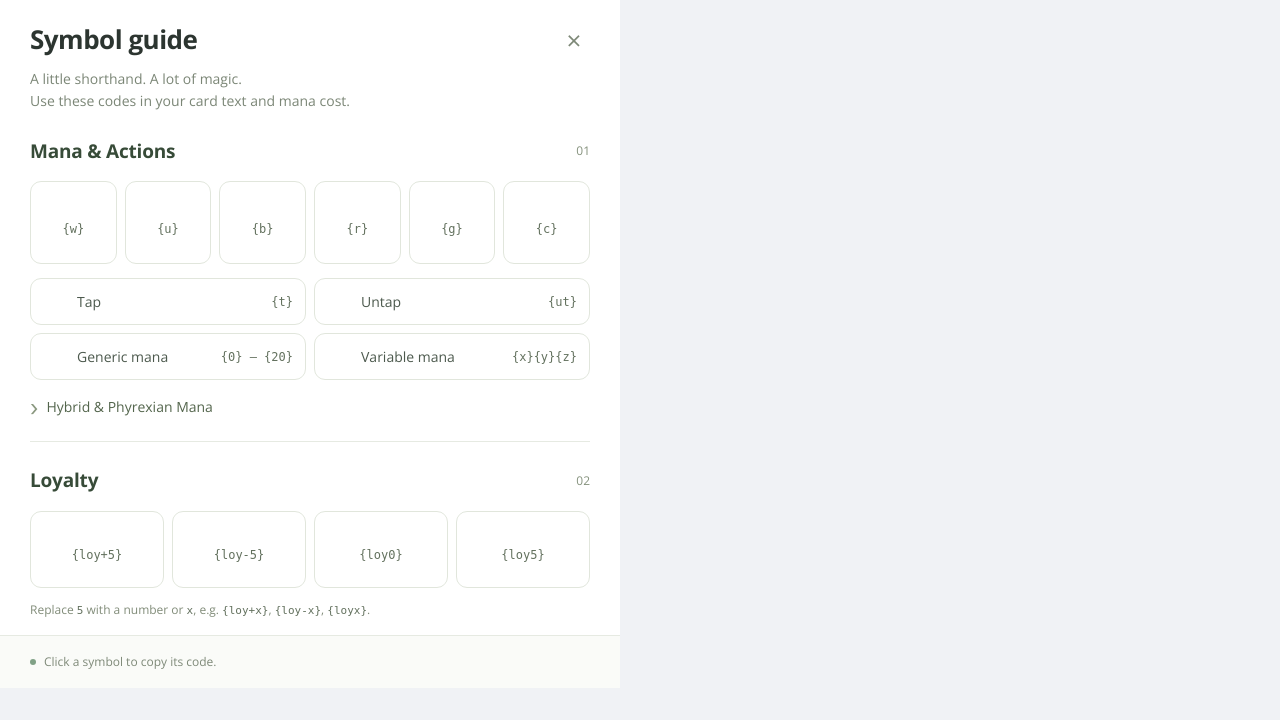
SymbolGuide › offers selectable code when the clipboard is missing
Step 1. Click the button with aria-label "Copy Tap: {t}" → (89, 302), box x1=30 y1=278 x2=306 y2=325
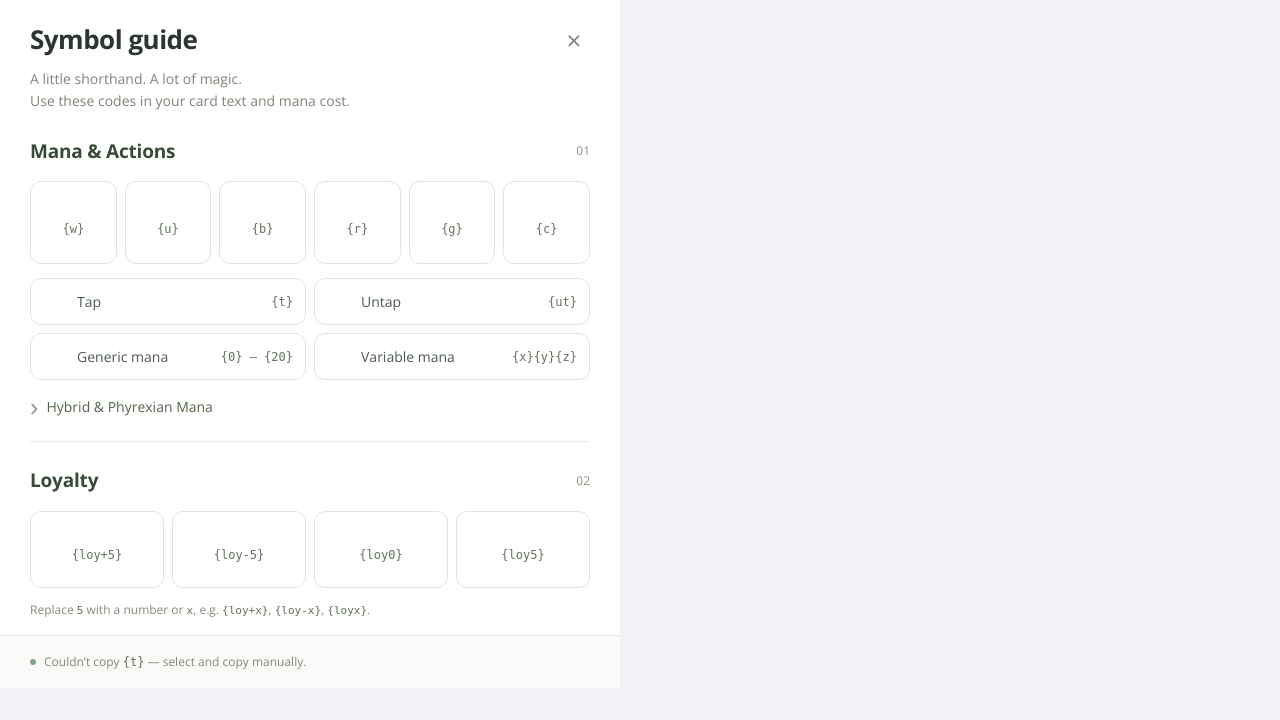
Expected: the message does not show "Copied", x1=44 y1=653 x2=306 y2=671
Now the message shows "select and copy manually", box x1=144 y1=653 x2=306 y2=670
